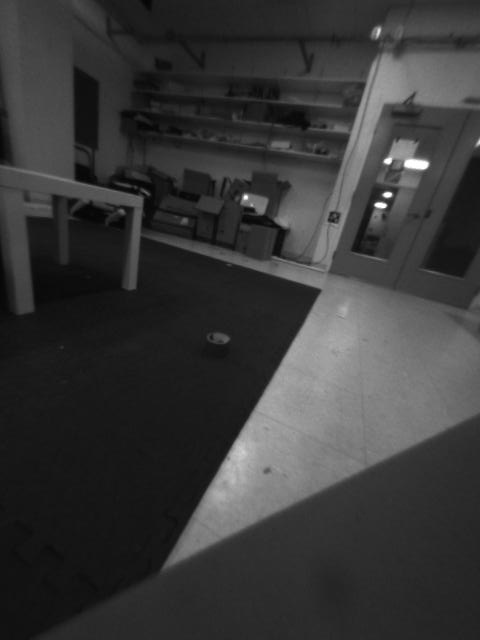dogtoy: (191, 318, 240, 359)
